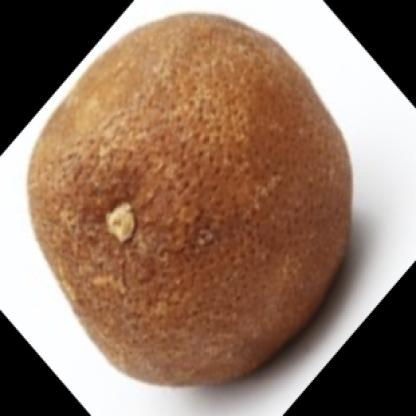rotten: (26, 12, 352, 389)
